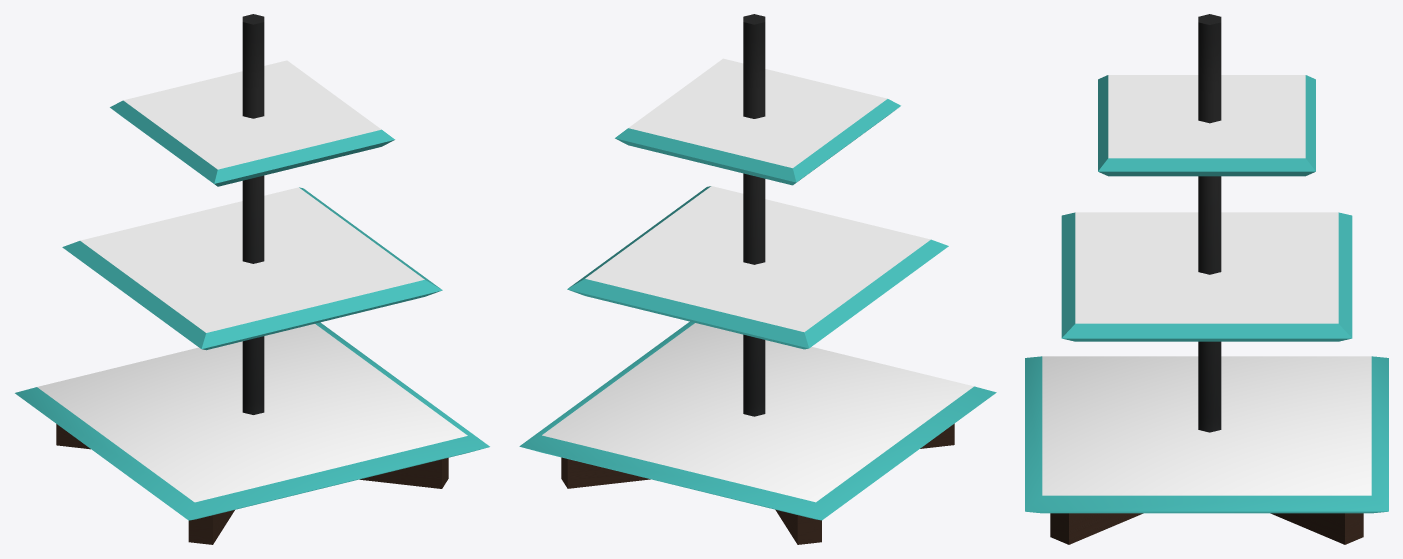
File: Cupcake_Stand_C.FBX
3 renders of one model, left to right at view 1: azimuth 30°, elevation 25°; view 2: azimuth 150°, elevation 25°; view 3: azimuth 270°, elevation 25°, orthographic. The views are drawn at different scales.
Parts seen in each view (by area): view 1: Cupcake_Stand; view 2: Cupcake_Stand; view 3: Cupcake_Stand.
Boxes of the visible parts, bbox=[...] form: Cupcake_Stand: bbox=[15, 14, 489, 544]; Cupcake_Stand: bbox=[519, 14, 996, 544]; Cupcake_Stand: bbox=[1025, 14, 1388, 544].
Bounding box in the file's own units: 110 × 154 × 110.
